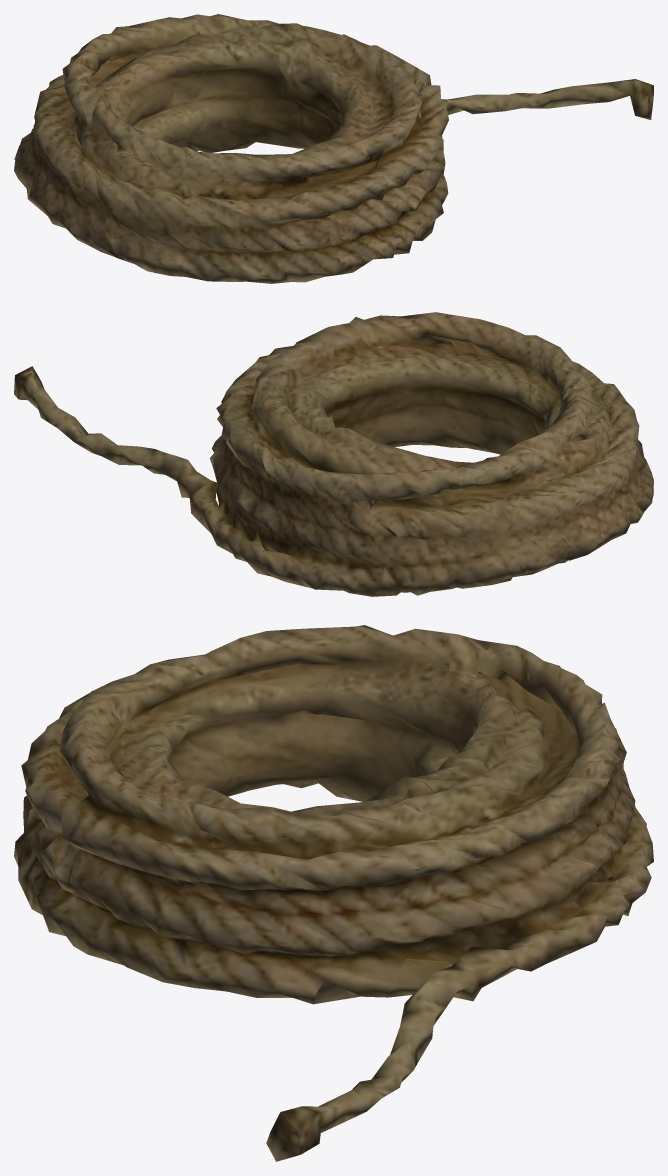
File: rope_coil_hemp.487b27d8b4.glb
3 renders of one model, top to bottom at view 1: azimuth 30°, elevation 25°; view 2: azimuth 150°, elevation 25°; view 3: azimuth 270°, elevation 25°, orthographic. The views are drawn at different scales.
Visible parts, largest first — view 1: rope_coil_hemp; view 2: rope_coil_hemp; view 3: rope_coil_hemp.
Boxes of the visible parts, x1,y1,x2,y2 form: rope_coil_hemp: (14, 14, 653, 283); rope_coil_hemp: (14, 312, 653, 596); rope_coil_hemp: (14, 625, 653, 1161).
Size of the model in its own units: 0.3 by 0.0583 by 0.1942.
1 material, 1 textured.
